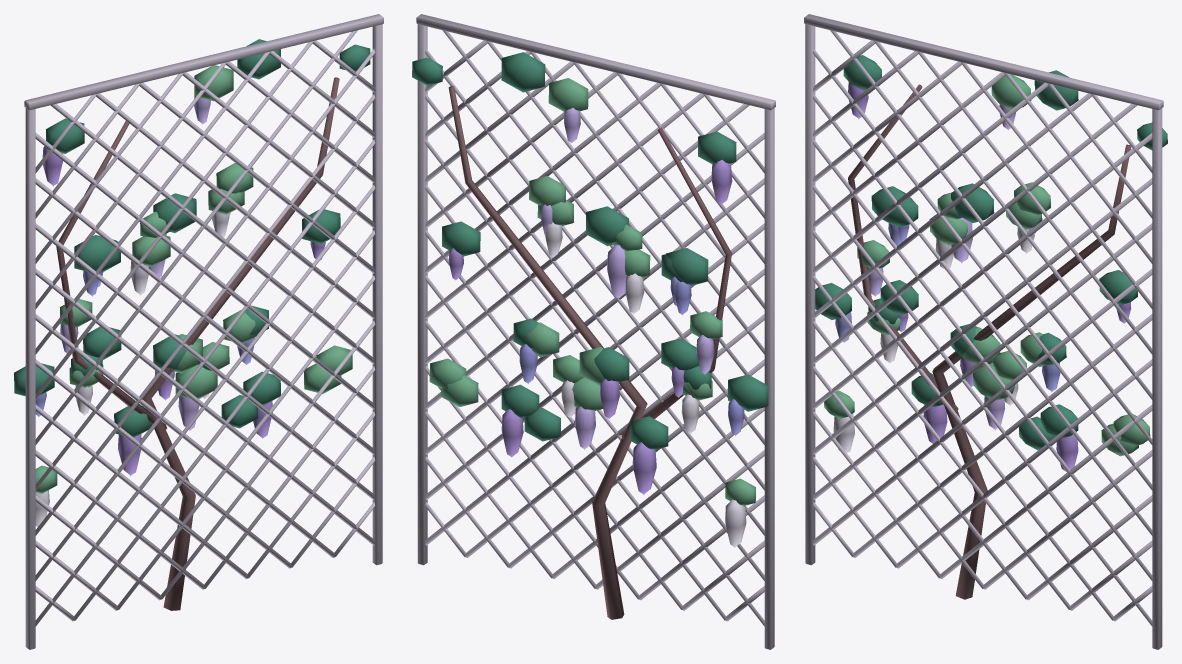
File: wisteria_trellis.glb
3 renders of one model, left to right at view 1: azimuth 30°, elevation 25°; view 2: azimuth 150°, elevation 25°; view 3: azimuth 330°, elevation 25°, orthographic.
Parts seen in each view (by area): view 1: wisteria_trellis; view 2: wisteria_trellis; view 3: wisteria_trellis.
Part boxes in pixels (x1,y1,x2,y2): wisteria_trellis: [14, 14, 383, 649]; wisteria_trellis: [412, 14, 775, 649]; wisteria_trellis: [804, 14, 1167, 649].
Size of what is drawn, in the model's own units: 4.14 by 6.05 by 0.43.
